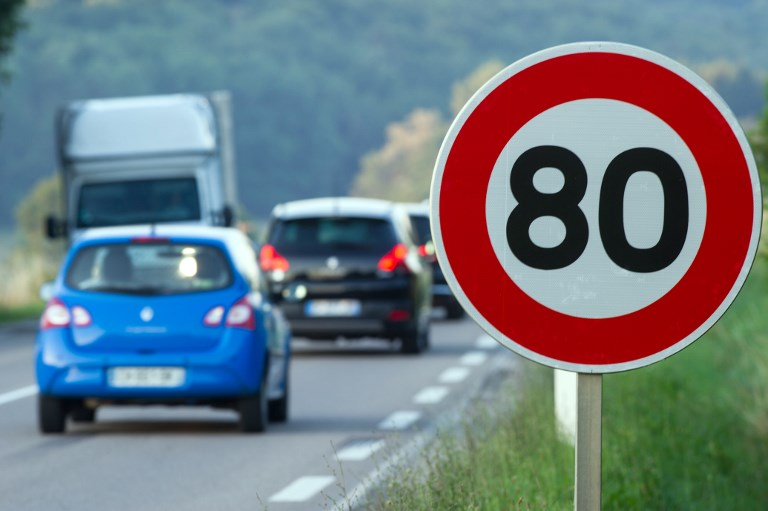Speed_limit_80km: (431, 40, 762, 372)
